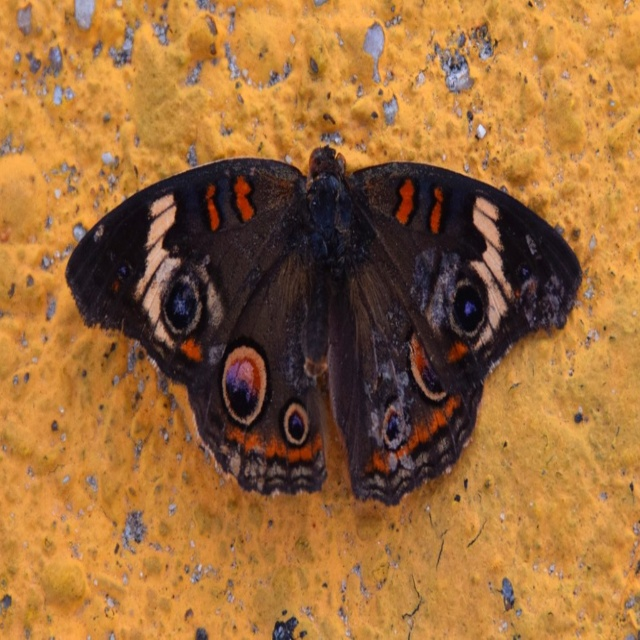Butterfly: (93, 104, 591, 538)
